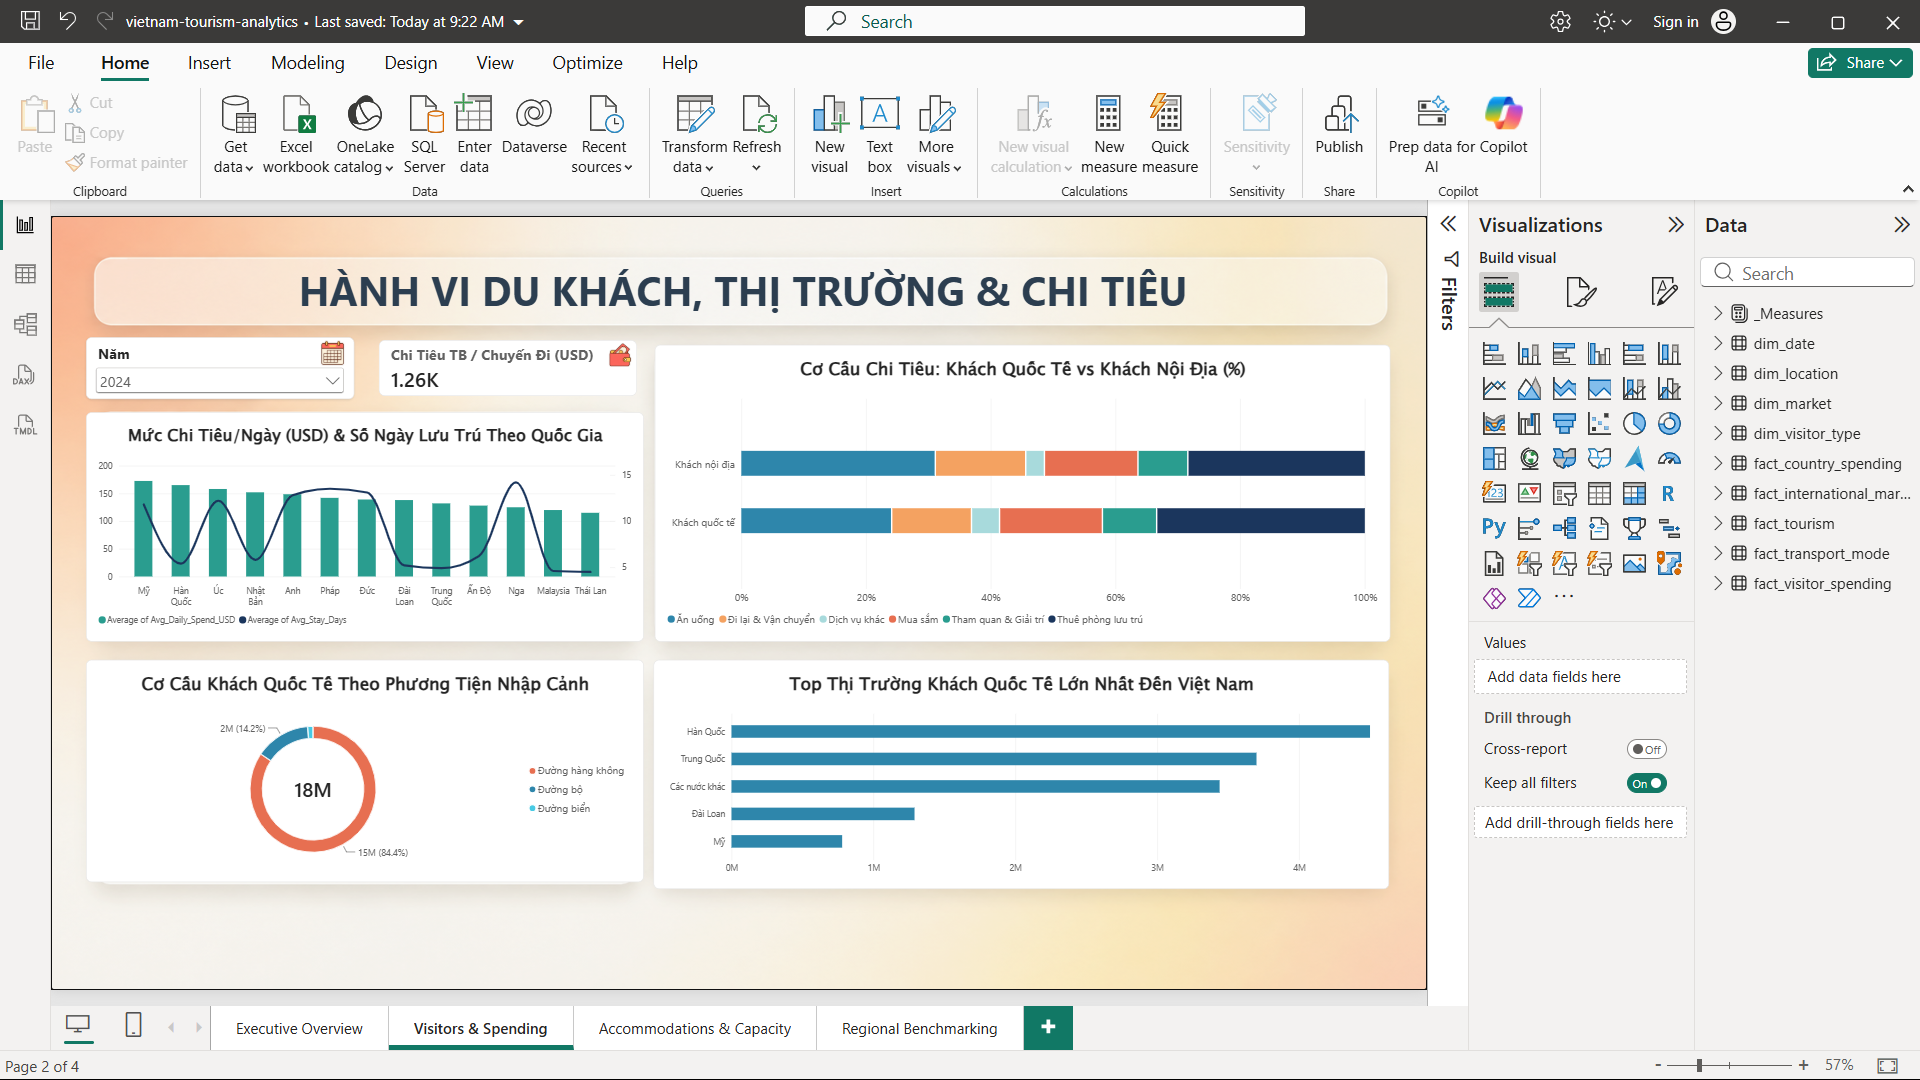

Layout of this report page (visuals, bound fields, positions):
{"tool":"powerbi","page":{"name":"Visitors & Spending","canvas":[1920,1080],"ordinal":1},"visuals":[{"type":"slicer","fields":{"Values":["dim_date.Year"]},"box":[48,170,374,86],"z":0},{"type":"clusteredBarChart","title":"Top Thị Trường Khách Quốc Tế Lớn Nhất Đến Việt Nam            ","fields":{"Category":["dim_market.Country"],"Y":["Sum(fact_international_markets.Visitors)"]},"box":[840,620,1026,320],"z":1000},{"type":"donutChart","title":"Cơ Cấu Khách Quốc Tế Theo Phương Tiện Nhập Cảnh","fields":{"Category":["fact_transport_mode.Transport_Mode"],"Y":["Sum(fact_transport_mode.Visitors)"]},"box":[48,620,778,310],"z":2000},{"type":"hundredPercentStackedBarChart","title":"Cơ Cấu Chi Tiêu: Khách Quốc Tế vs Khách Nội Địa (%)        ","fields":{"Category":["dim_visitor_type.Visitor_Type"],"Series":["fact_visitor_spending.Expense_Category"],"Y":["Sum(fact_visitor_spending.Pct_Share)"]},"box":[842,180,1026,414],"z":3000},{"type":"lineClusteredColumnComboChart","title":"Mức Chi Tiêu/Ngày (USD) & Số Ngày Lưu Trú Theo Quốc Gia","fields":{"Category":["fact_country_spending.Country"],"Y":["Avg(fact_country_spending.Avg_Daily_Spend_USD)"],"Y2":["Avg(fact_country_spending.Avg_Stay_Days)"]},"box":[48,274,778,320],"z":4000},{"type":"cardVisual","fields":{"Data":["Avg(fact_country_spending.Avg_Trip_Spend_USD)"]},"box":[454,170,372,86],"z":5000},{"type":"textbox","box":[62,64,1806,86],"z":6000},{"type":"image","box":[358,168,72,42],"z":7000},{"type":"image","box":[724,174,140,38],"z":8000}]}

Visuals, with their boxes on the page's 1920x1080 design canvas (x1, y1, x2, y2). These are canvas units, not pixel positions in the 1920x1080 screenshot, which may show the page scaled, cropped or inside an application window:
slicer - dim_date.Year: l=48, t=170, r=422, b=256
"Top Thị Trường Khách Quốc Tế Lớn Nhất Đến Việt Nam            " clusteredBarChart: l=840, t=620, r=1866, b=940
"Cơ Cấu Khách Quốc Tế Theo Phương Tiện Nhập Cảnh" donutChart: l=48, t=620, r=826, b=930
"Cơ Cấu Chi Tiêu: Khách Quốc Tế vs Khách Nội Địa (%)        " hundredPercentStackedBarChart: l=842, t=180, r=1868, b=594
"Mức Chi Tiêu/Ngày (USD) & Số Ngày Lưu Trú Theo Quốc Gia" lineClusteredColumnComboChart: l=48, t=274, r=826, b=594
cardVisual - Avg(fact_country_spending.Avg_Trip_Spend_USD): l=454, t=170, r=826, b=256
textbox: l=62, t=64, r=1868, b=150
image: l=358, t=168, r=430, b=210
image: l=724, t=174, r=864, b=212
